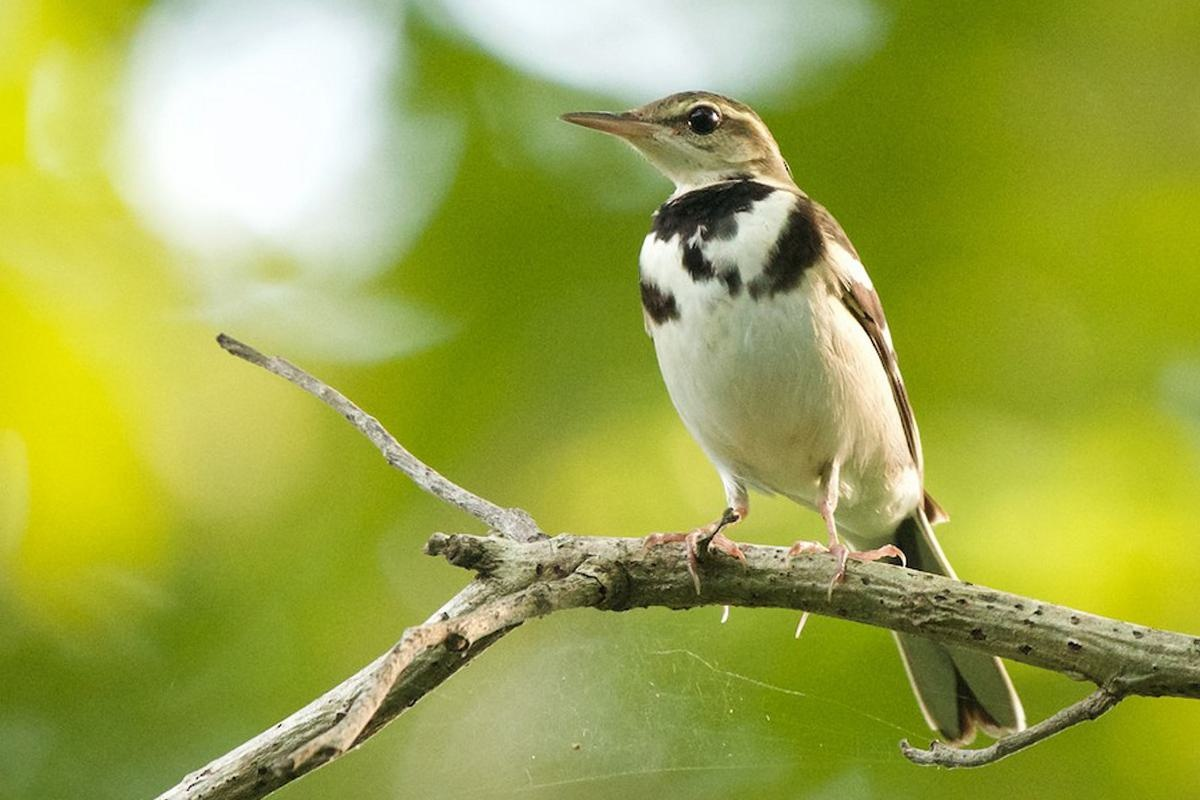wagtail: (603, 70, 988, 691)
